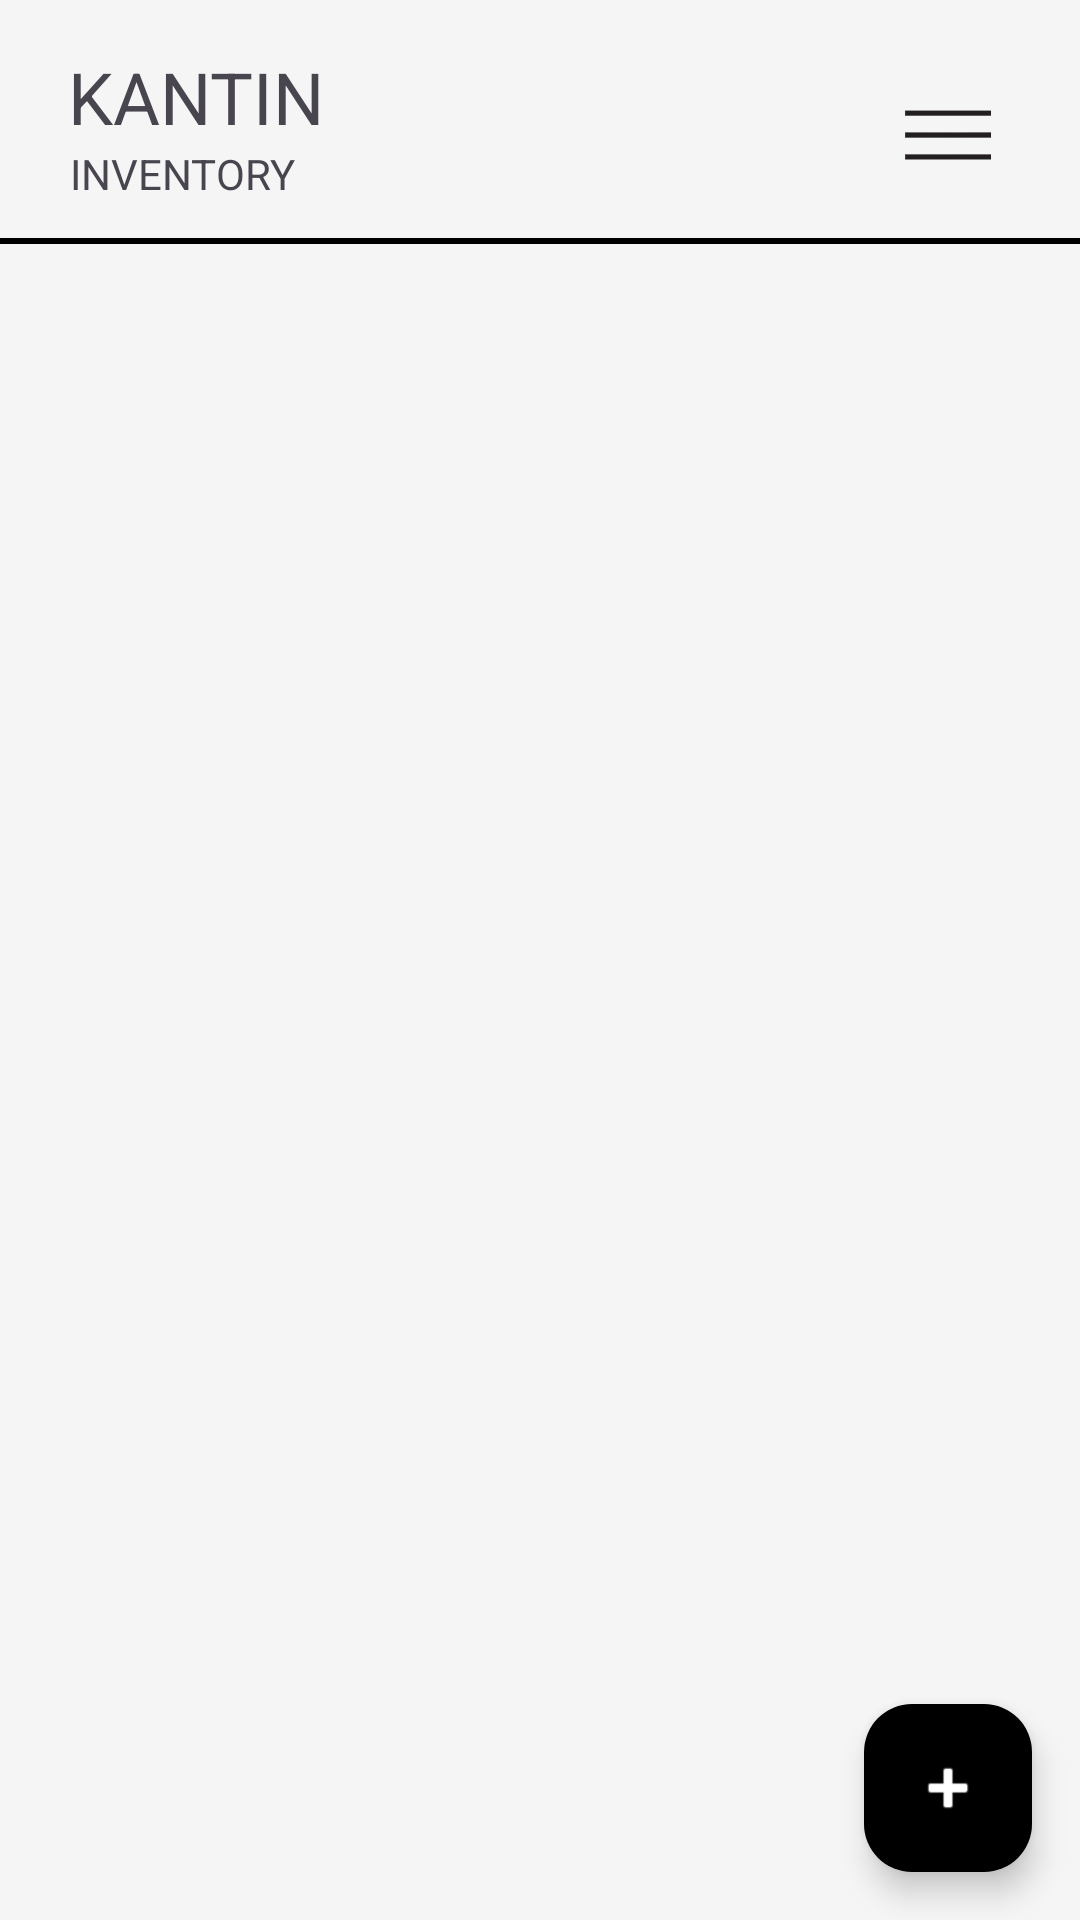

Icon bounding boxes for this 1080w x 1920h phone screenshot, format (x1, y1, x2, y2):
hamburger menu: (905, 110, 991, 160)
Tambah Barang Baru: (864, 1704, 1032, 1872)
